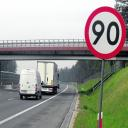speed_limit_90: (84, 6, 126, 59)
